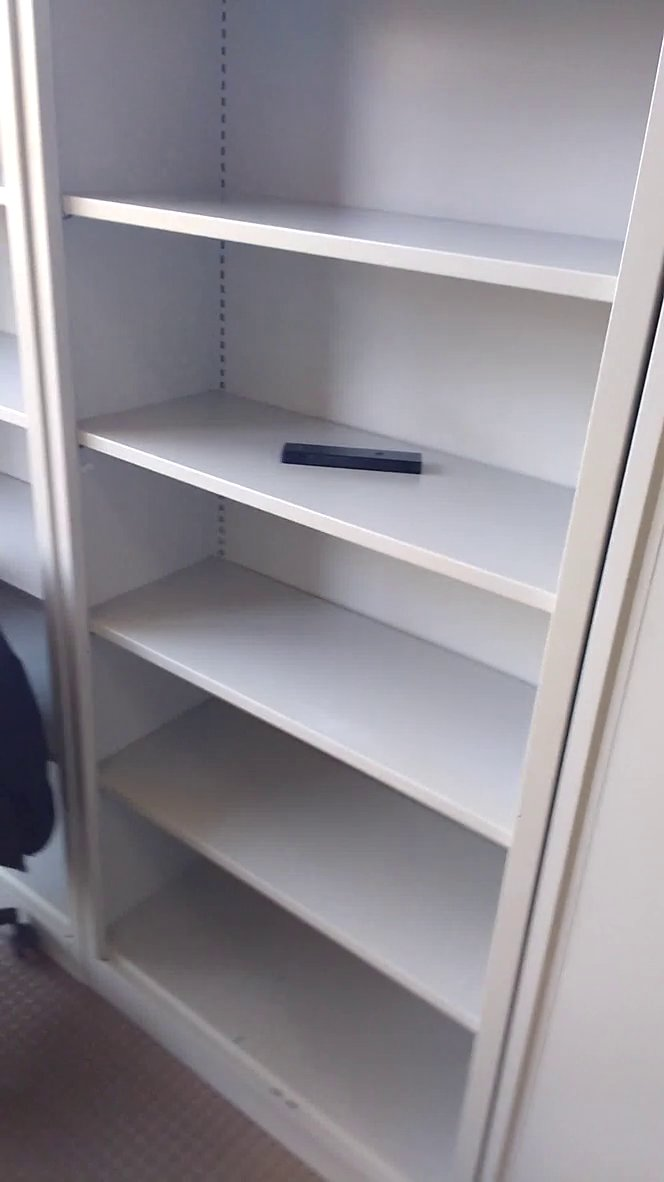remote: (273, 437, 430, 490)
